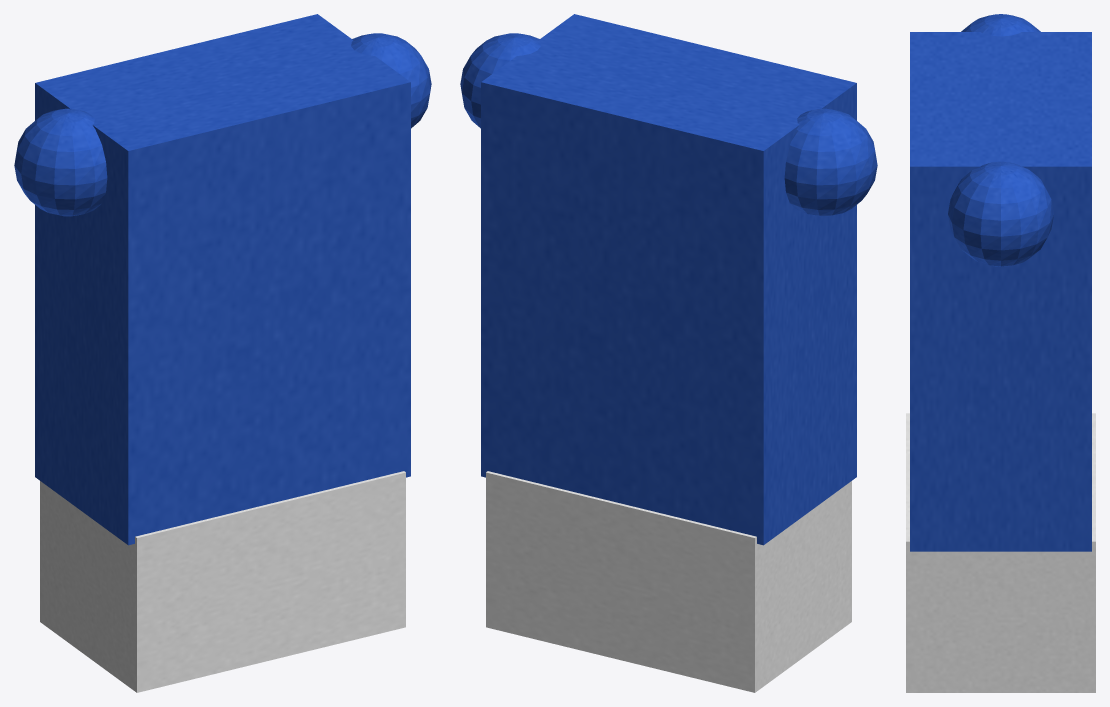
File: JugA_Torso.obj
3 views of the same model, side by side, from view 1: azimuth 30°, elevation 25°; view 2: azimuth 150°, elevation 25°; view 3: azimuth 270°, elevation 25° (orthographic). The views are drawn at different scales.
Size of the model in its own units: 0.6 by 0.78 by 0.25.
Materials: 1 (1 with a texture image).
